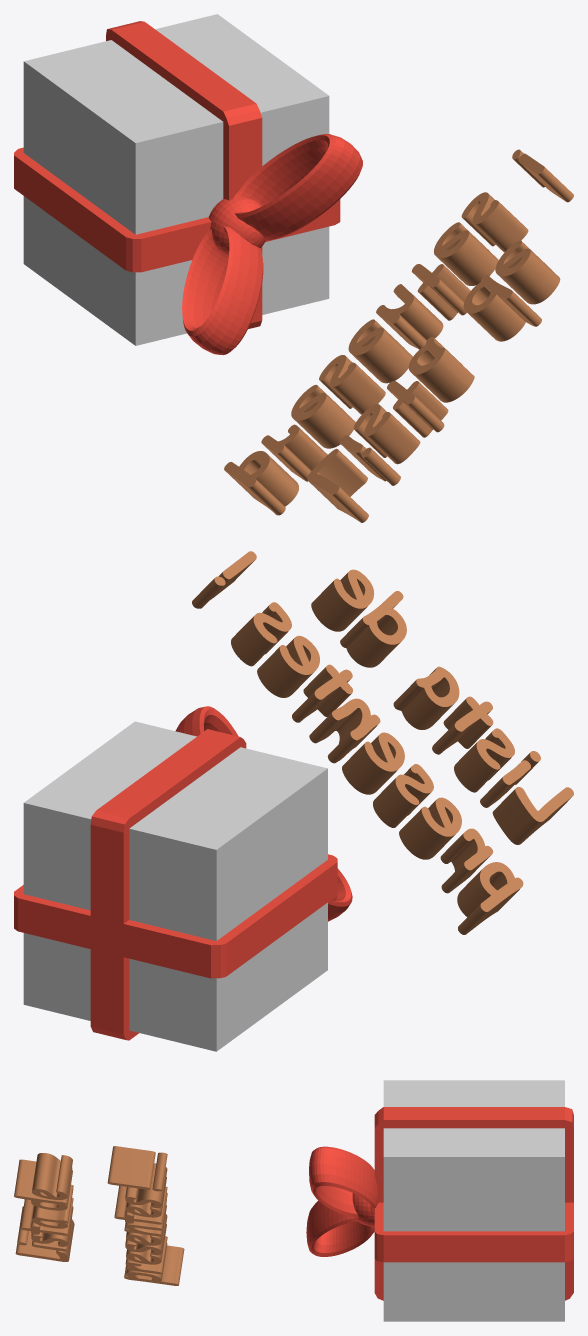
The model's file is gifts.glb.
The picture shows the model from 3 angles, top to bottom: view 1: azimuth 30°, elevation 25°; view 2: azimuth 150°, elevation 25°; view 3: azimuth 270°, elevation 25°; orthographic projection. The views are drawn at different scales.
Visible parts, largest first — view 1: present, click_call.001; view 2: present, click_call.001; view 3: present, click_call.001.
Part boxes in pixels (bbox=[...]): present: bbox=[14, 14, 362, 355]; click_call.001: bbox=[224, 149, 573, 522]; present: bbox=[14, 706, 352, 1051]; click_call.001: bbox=[192, 551, 573, 934]; present: bbox=[306, 1080, 573, 1321]; click_call.001: bbox=[14, 1146, 184, 1285].
Bounding box in the file's own units: 0.9874 × 0.8844 × 1.87.
